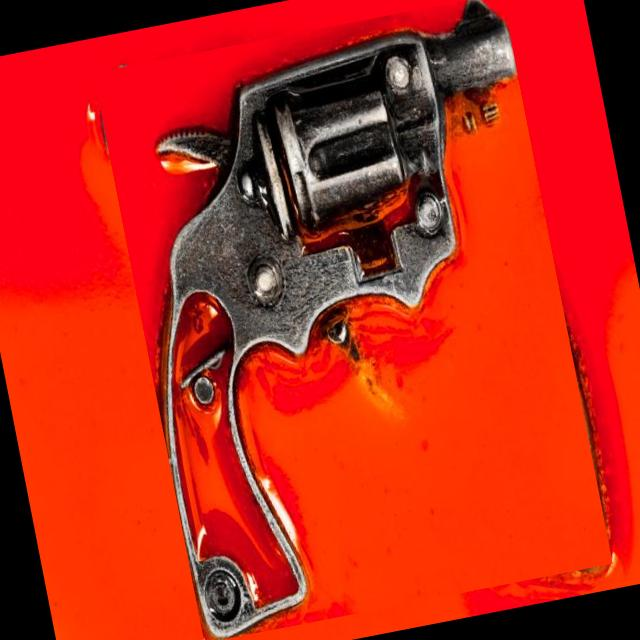Gun: (159, 0, 517, 639)
